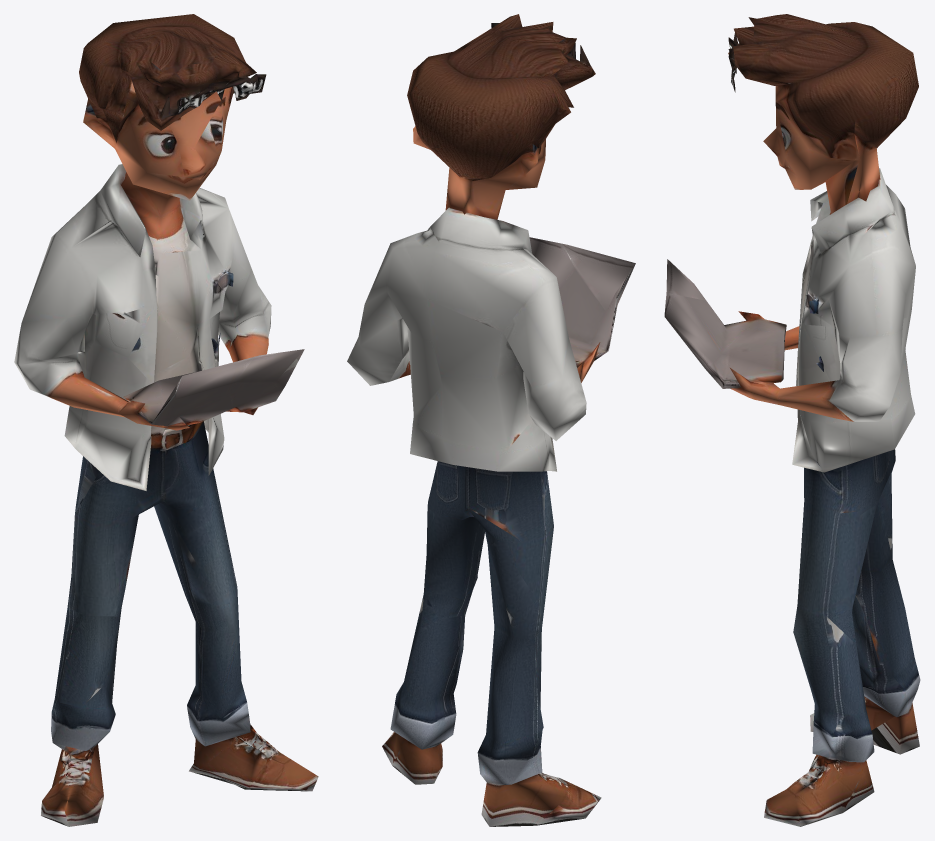
Rendered from michael.glb.
The picture shows the model from 3 angles, left to right: view 1: azimuth 30°, elevation 25°; view 2: azimuth 150°, elevation 25°; view 3: azimuth 270°, elevation 25°; orthographic projection. The views are drawn at different scales.
Visible parts, largest first — view 1: tripo_node_e6843976-1262-4e7a-b5ca-b90d09c2a9d1; view 2: tripo_node_e6843976-1262-4e7a-b5ca-b90d09c2a9d1; view 3: tripo_node_e6843976-1262-4e7a-b5ca-b90d09c2a9d1.
Part boxes in pixels (x1,y1,x2,y2): tripo_node_e6843976-1262-4e7a-b5ca-b90d09c2a9d1: (14,14,318,826); tripo_node_e6843976-1262-4e7a-b5ca-b90d09c2a9d1: (347,14,635,826); tripo_node_e6843976-1262-4e7a-b5ca-b90d09c2a9d1: (664,14,920,826).
Bounding box in the file's own units: 0.3285 × 0.977 × 0.3055.
1 material, 1 textured.
